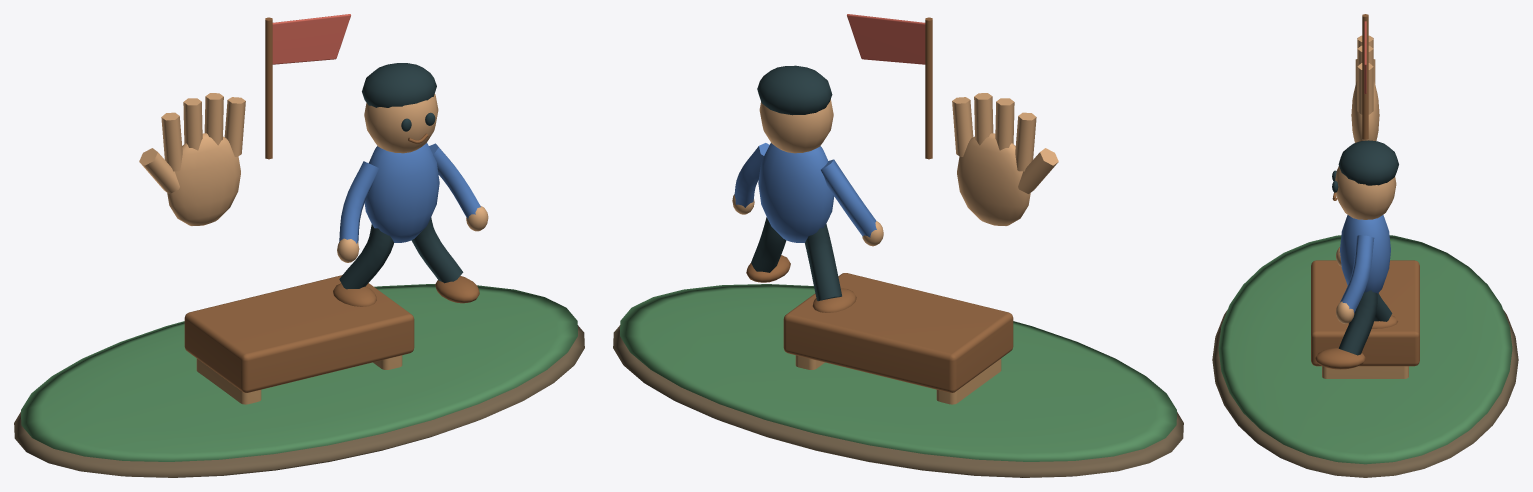
File: complete-second-raised-event.glb
3 views of the same model, side by side, from view 1: azimuth 30°, elevation 25°; view 2: azimuth 150°, elevation 25°; view 3: azimuth 270°, elevation 25° (orthographic). The views are drawn at different scales.
Visible parts, largest first — view 1: complete-second-raised-event_surface_01, complete-second-raised-event_surface_04, complete-second-raised-event_surface_02, complete-second-raised-event_surface_00, complete-second-raised-event_surface_05, complete-second-raised-event_surface_03, complete-second-raised-event_surface_06, complete-second-raised-event_surface_07; view 2: complete-second-raised-event_surface_01, complete-second-raised-event_surface_04, complete-second-raised-event_surface_02, complete-second-raised-event_surface_00, complete-second-raised-event_surface_05, complete-second-raised-event_surface_03, complete-second-raised-event_surface_06, complete-second-raised-event_surface_07; view 3: complete-second-raised-event_surface_01, complete-second-raised-event_surface_04, complete-second-raised-event_surface_00, complete-second-raised-event_surface_02, complete-second-raised-event_surface_03, complete-second-raised-event_surface_05, complete-second-raised-event_surface_07.
Boxes of the visible parts, <box> form: complete-second-raised-event_surface_01: <box>21,284,577,461</box>; complete-second-raised-event_surface_04: <box>184,17,479,392</box>; complete-second-raised-event_surface_02: <box>139,93,488,262</box>; complete-second-raised-event_surface_00: <box>14,325,584,477</box>; complete-second-raised-event_surface_05: <box>339,143,480,243</box>; complete-second-raised-event_surface_03: <box>339,63,463,289</box>; complete-second-raised-event_surface_06: <box>272,14,350,64</box>; complete-second-raised-event_surface_07: <box>196,355,402,404</box>; complete-second-raised-event_surface_01: <box>620,284,1176,461</box>; complete-second-raised-event_surface_04: <box>746,17,1013,392</box>; complete-second-raised-event_surface_02: <box>732,93,1058,246</box>; complete-second-raised-event_surface_00: <box>613,325,1183,477</box>; complete-second-raised-event_surface_05: <box>734,143,876,242</box>; complete-second-raised-event_surface_03: <box>751,65,841,301</box>; complete-second-raised-event_surface_06: <box>847,14,925,64</box>; complete-second-raised-event_surface_07: <box>795,355,1001,404</box>; complete-second-raised-event_surface_01: <box>1218,235,1512,464</box>; complete-second-raised-event_surface_04: <box>1311,14,1419,369</box>; complete-second-raised-event_surface_00: <box>1212,310,1518,477</box>; complete-second-raised-event_surface_02: <box>1335,35,1396,323</box>; complete-second-raised-event_surface_03: <box>1332,140,1398,355</box>; complete-second-raised-event_surface_05: <box>1339,215,1390,312</box>; complete-second-raised-event_surface_07: <box>1322,366,1408,378</box>.
Bounding box in the file's own units: 4.56 × 3.11 × 2.5.
